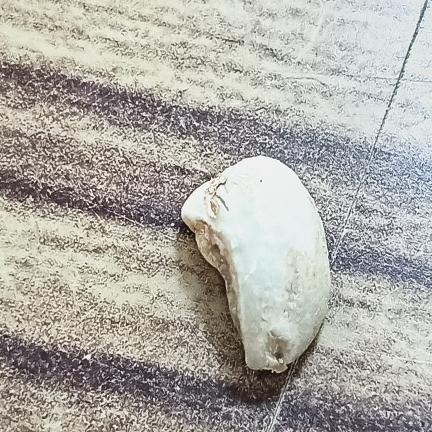broken: (182, 156, 331, 372)
